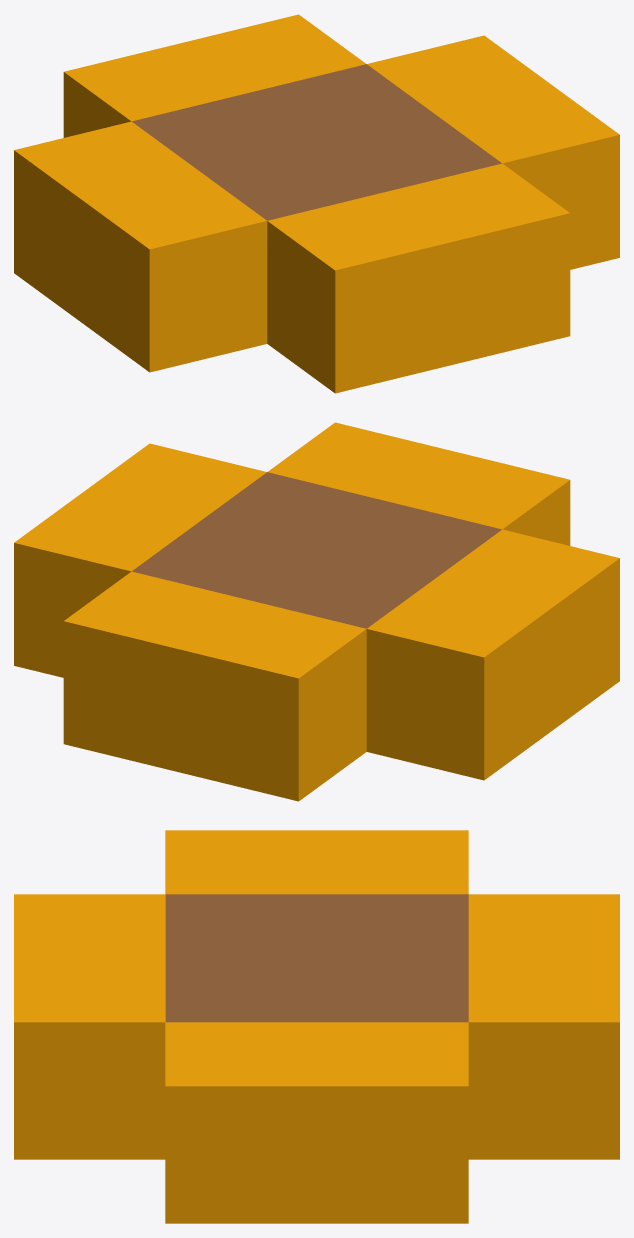
File: BombMiniGold.obj
The picture shows the model from 3 angles, top to bottom: view 1: azimuth 30°, elevation 25°; view 2: azimuth 150°, elevation 25°; view 3: azimuth 270°, elevation 25°; orthographic projection. The views are drawn at different scales.
Bounding box in the file's own units: 0.4 × 0.1 × 0.4.
1 material, 1 textured.
